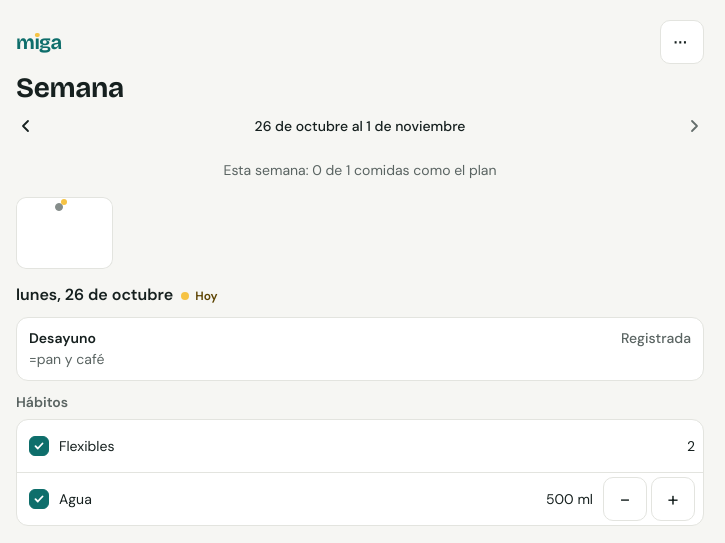
el menú ofrece descargas y Planilla, Escape cierra y devuelve el foco
Click the button named "Más opciones de la semana".
click(682, 42)  # box [660,20,704,64]
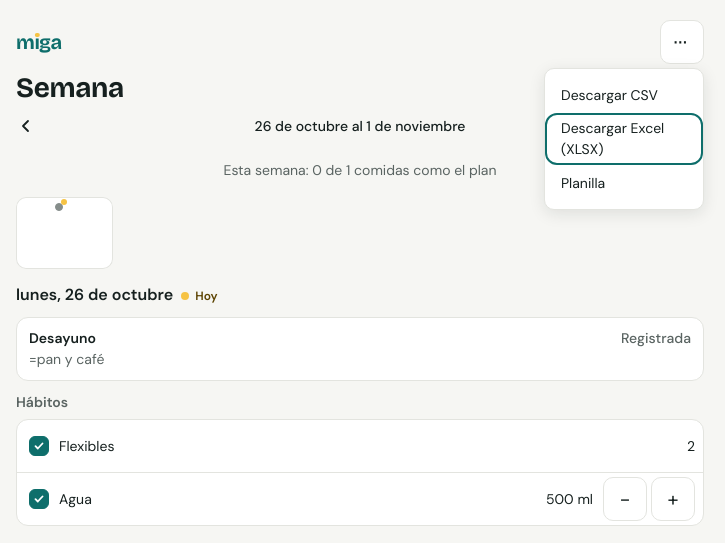
Check: the menu item "Descargar CSV" is shown, box [549,73,699,117]
Check: the menu item "Planilla" is shown, box [549,161,699,205]
Press Escape in the menu item "Descargar Excel (XLSX)", box [549,117,699,161]
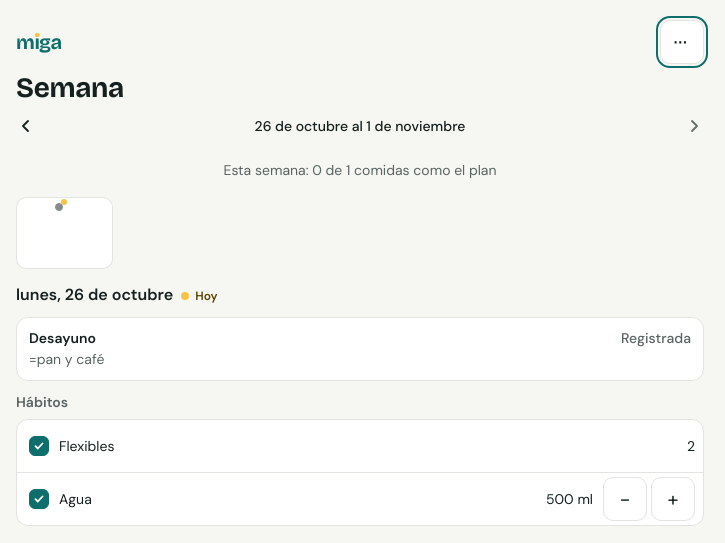
Check: the menu is gone
